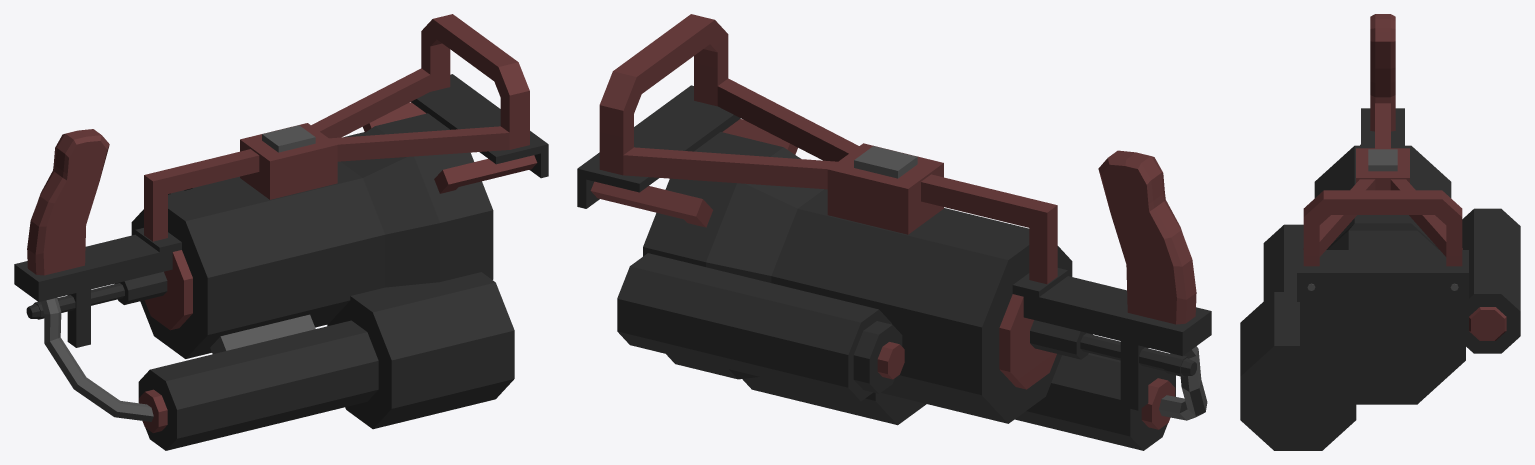
Rendered from LMG1_06.fbx.
3 views of the same model, side by side, from view 1: azimuth 30°, elevation 25°; view 2: azimuth 150°, elevation 25°; view 3: azimuth 270°, elevation 25° (orthographic). The views are drawn at different scales.
Parts seen in each view (by area): view 1: LMG1_06; view 2: LMG1_06; view 3: LMG1_06.
Part boxes in pixels (x1,y1,x2,y2): LMG1_06: (14,14,548,450); LMG1_06: (577,14,1211,450); LMG1_06: (1240,14,1520,450).
Bounding box in the file's own units: 0.6461 × 0.3998 × 0.3673.
